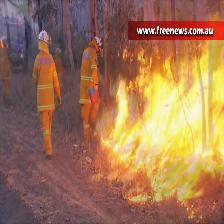fire: (99, 41, 224, 205)
